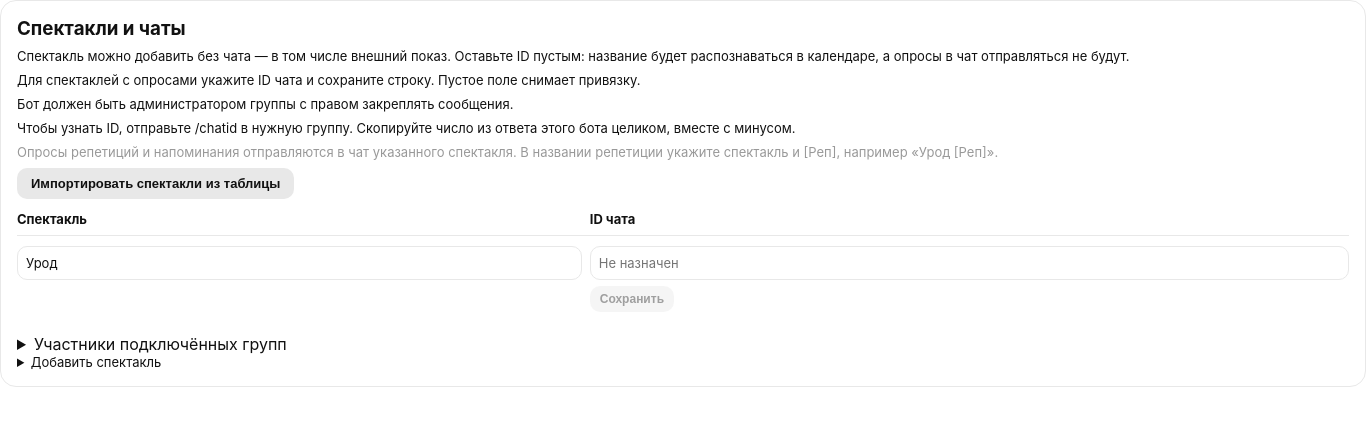
route is changed only on explicit save and includes the revision
The width and height of the screenshot is (1366, 425).
Type "-1002" into the field with placeholder "Не назначен". click: coordinates (969, 263)
box: [590, 246, 1349, 280]
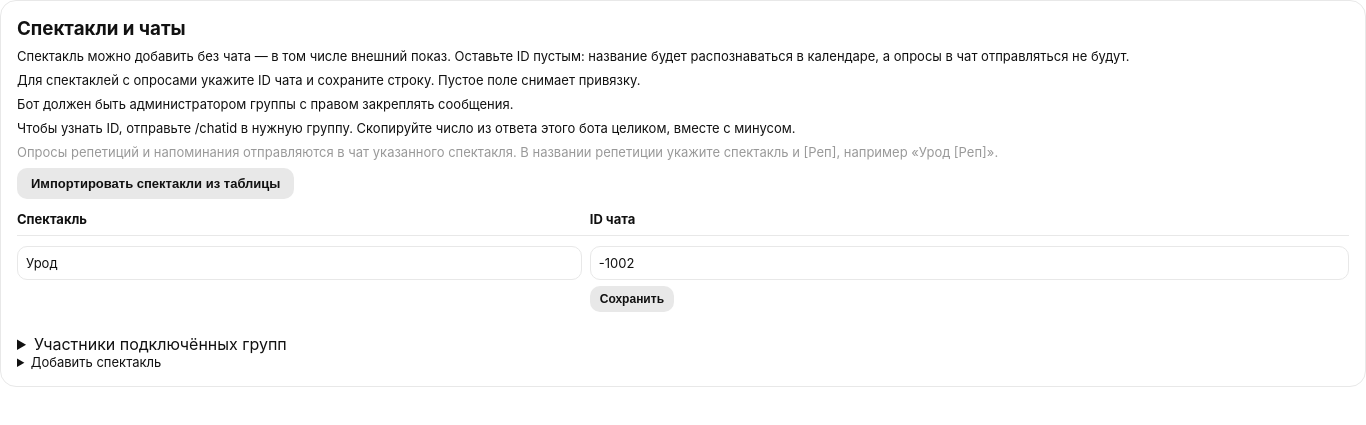
Submit the form, box [590, 246, 1349, 312]
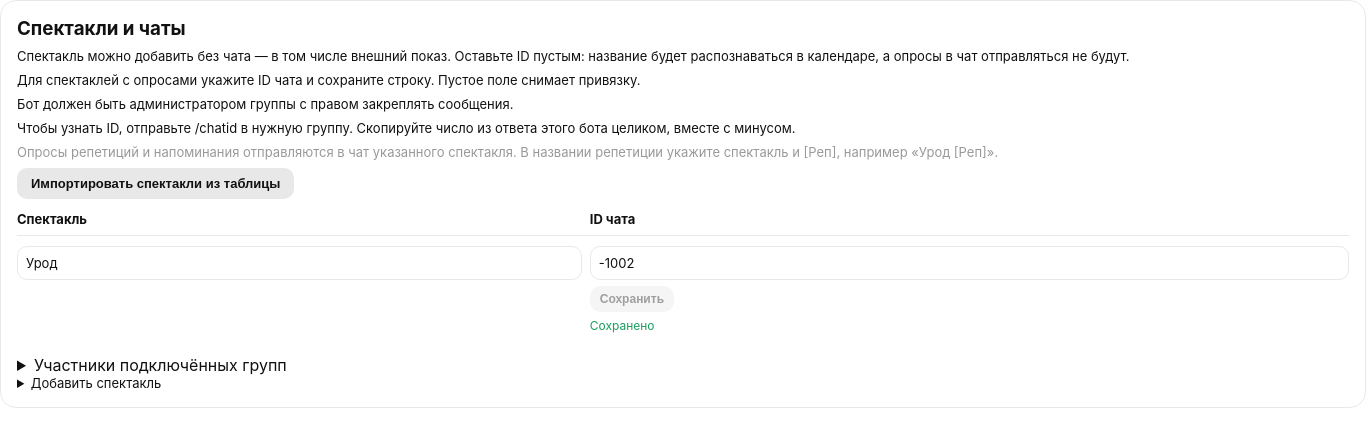
Check: the text "Сохранено" is shown, box [590, 318, 655, 333]
Check: the button "Сохранить" is disabled, box [590, 286, 674, 312]
